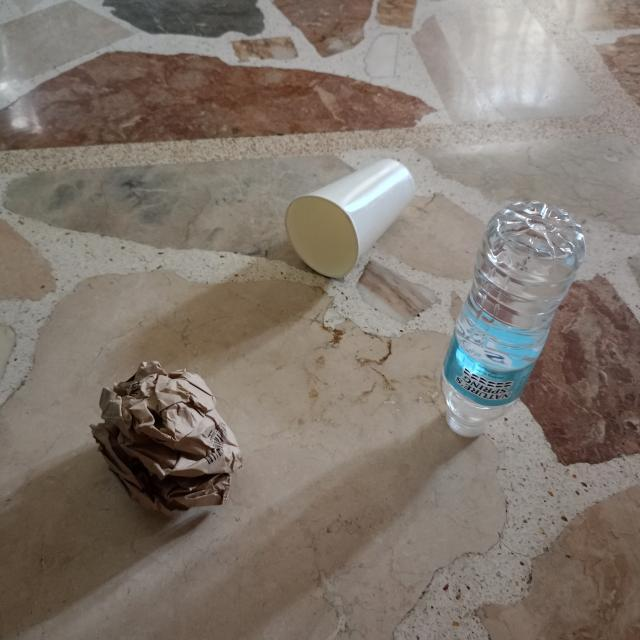recyclable waste: (427, 194, 597, 458), (76, 346, 249, 534), (273, 142, 426, 287)
